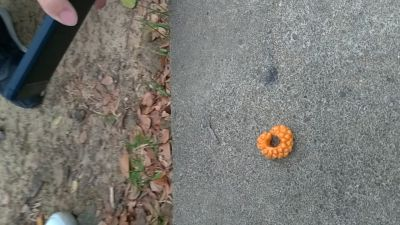eggs: (254, 123, 296, 163)
